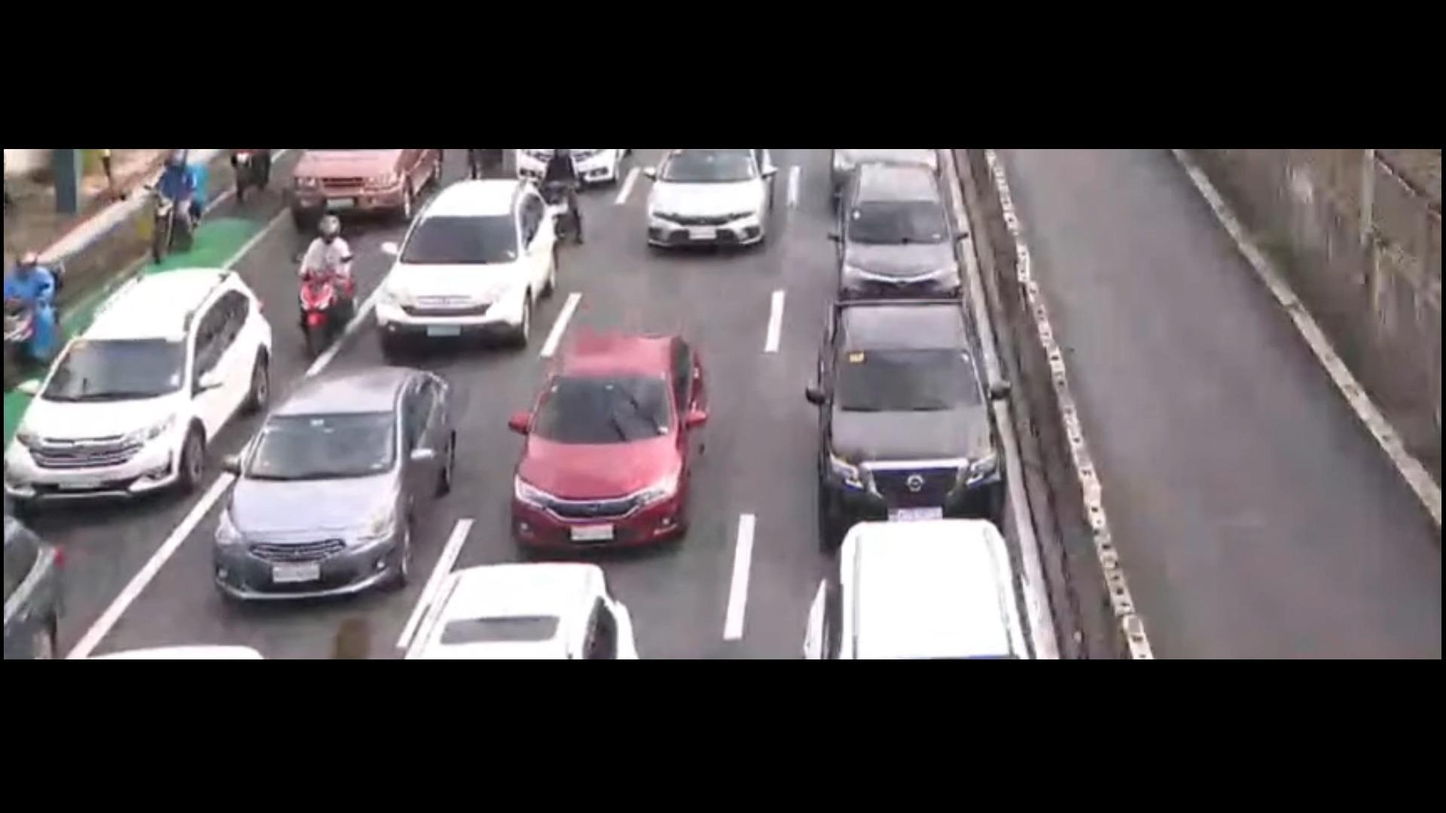Motorcycle: (293, 204, 373, 366), (10, 238, 79, 383), (140, 143, 215, 273)
Pickup: (786, 285, 1013, 544)
SUV: (15, 254, 273, 517), (364, 172, 577, 365), (825, 166, 968, 304), (642, 143, 789, 275)
Sedan: (200, 335, 484, 618), (507, 324, 721, 560)
